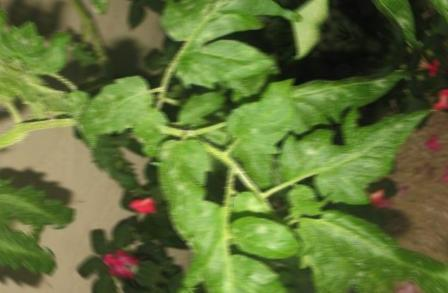Tomato mold leaf: (265, 63, 432, 232), (138, 0, 324, 121), (281, 201, 427, 293), (126, 128, 227, 244), (167, 228, 309, 293), (72, 59, 161, 157), (220, 198, 312, 271), (14, 6, 86, 86), (43, 0, 132, 16)
